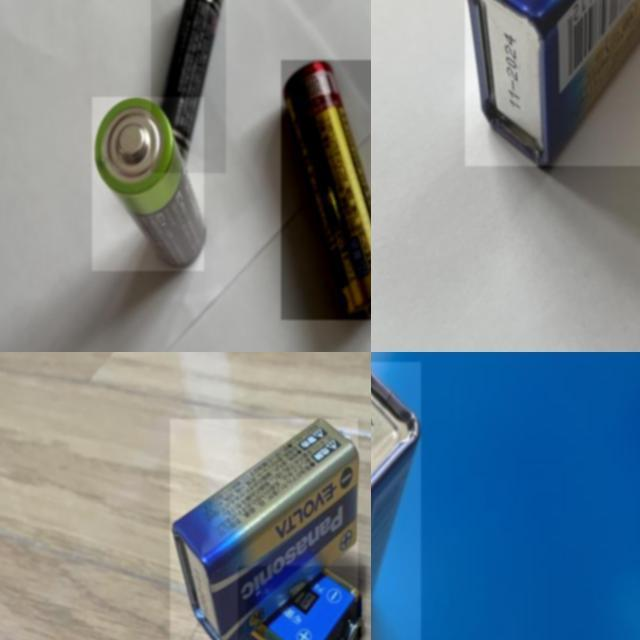9V: (170, 419, 358, 640), (465, 0, 640, 166), (371, 362, 421, 640), (238, 566, 365, 640)
